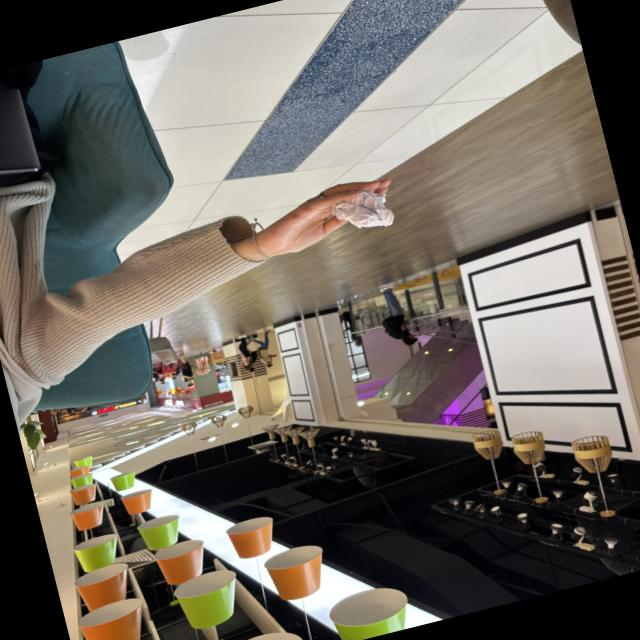crumpled_paper: (327, 180, 398, 240)
